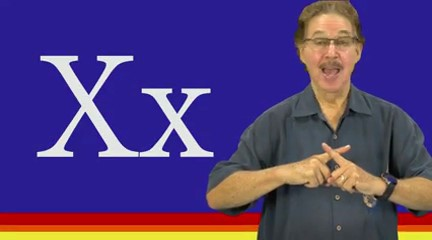X: (288, 131, 390, 202)
